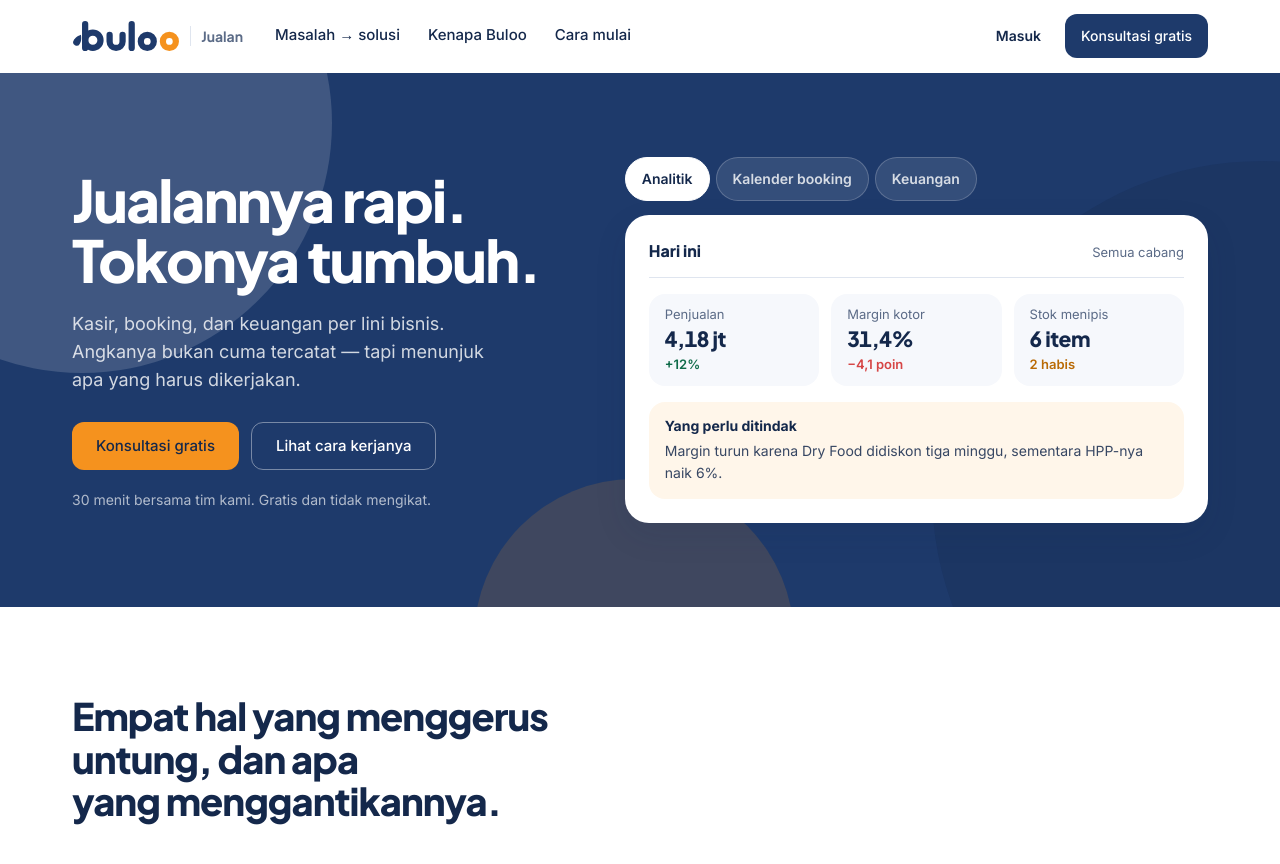
Test: LandingScreen › shows one hero panel at a time and switches on click
Expected: the number of panels is 1, [625,215,1208,523]
Click the tab "Kalender booking" at point(792, 179), box [716,157,869,201]
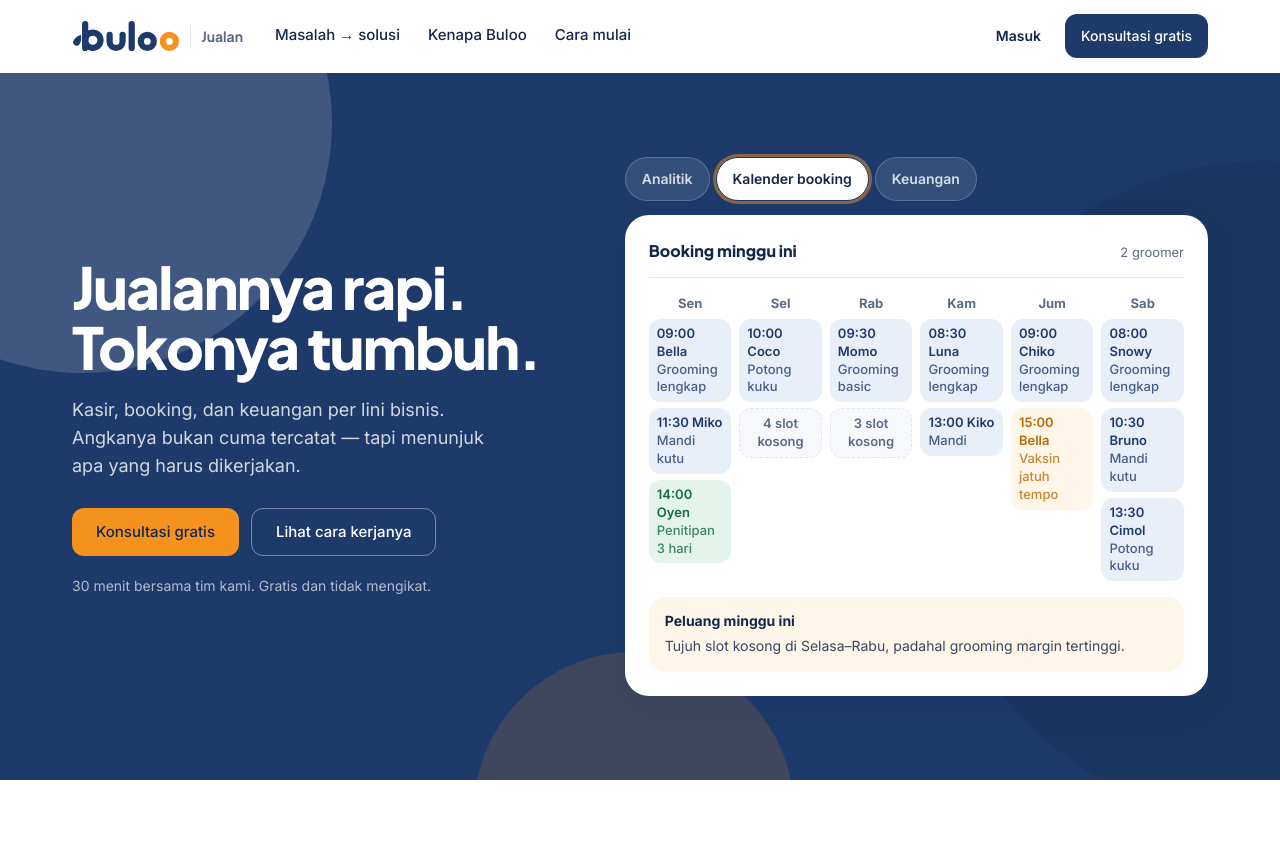
Result: the number of panels is 1 at [625,215,1208,696]
Result: the text "Booking minggu ini" is shown at [649,239,797,263]
